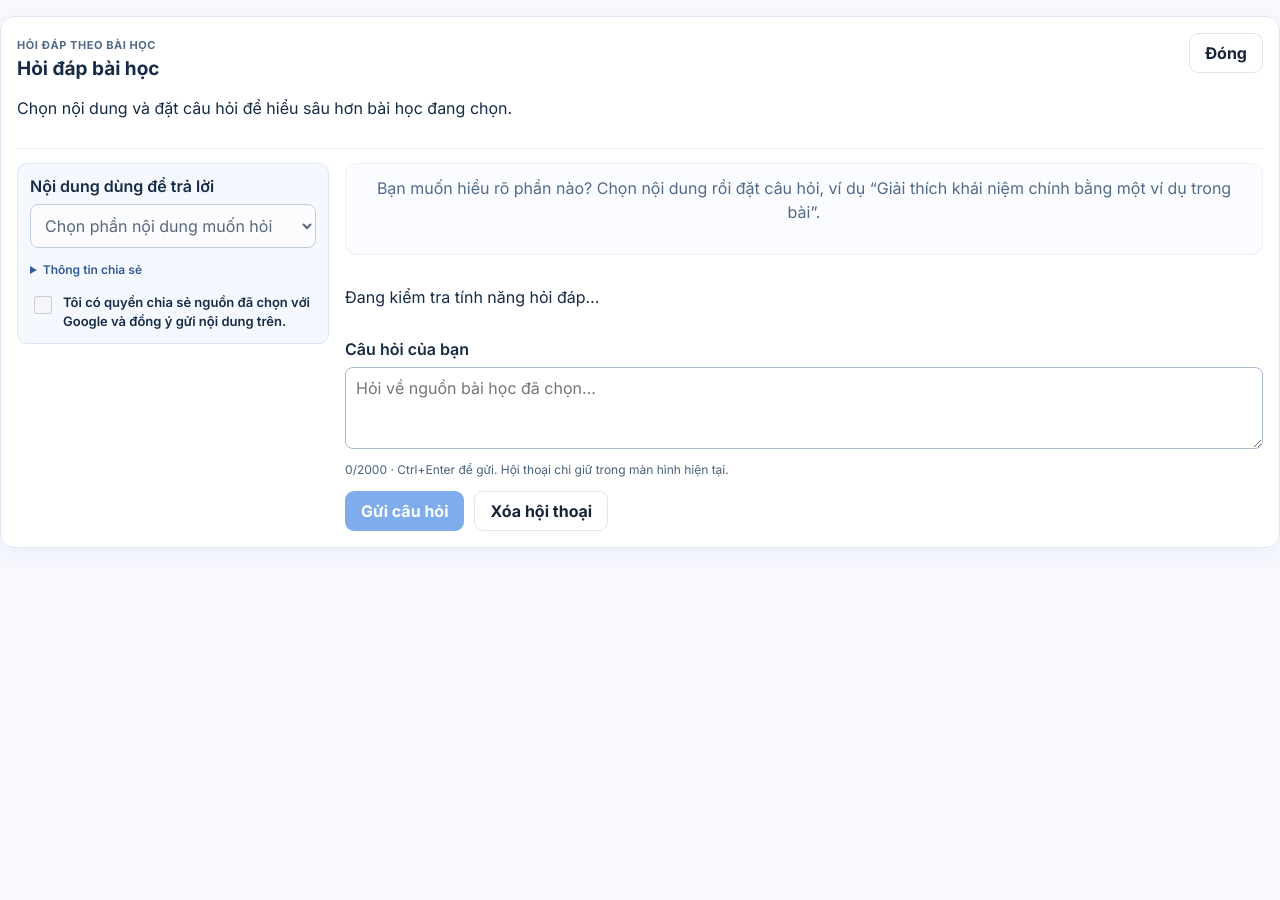
Scenario: Gemini lesson chat › requires deliberate source and consent, displays real contract reply and bounded follow-up
Later steps or results of the test are not shown.
Type "Hỏi về bài học" into the text box labelled "Câu hỏi của bạn" at [804, 408], box [345,367,1263,449]
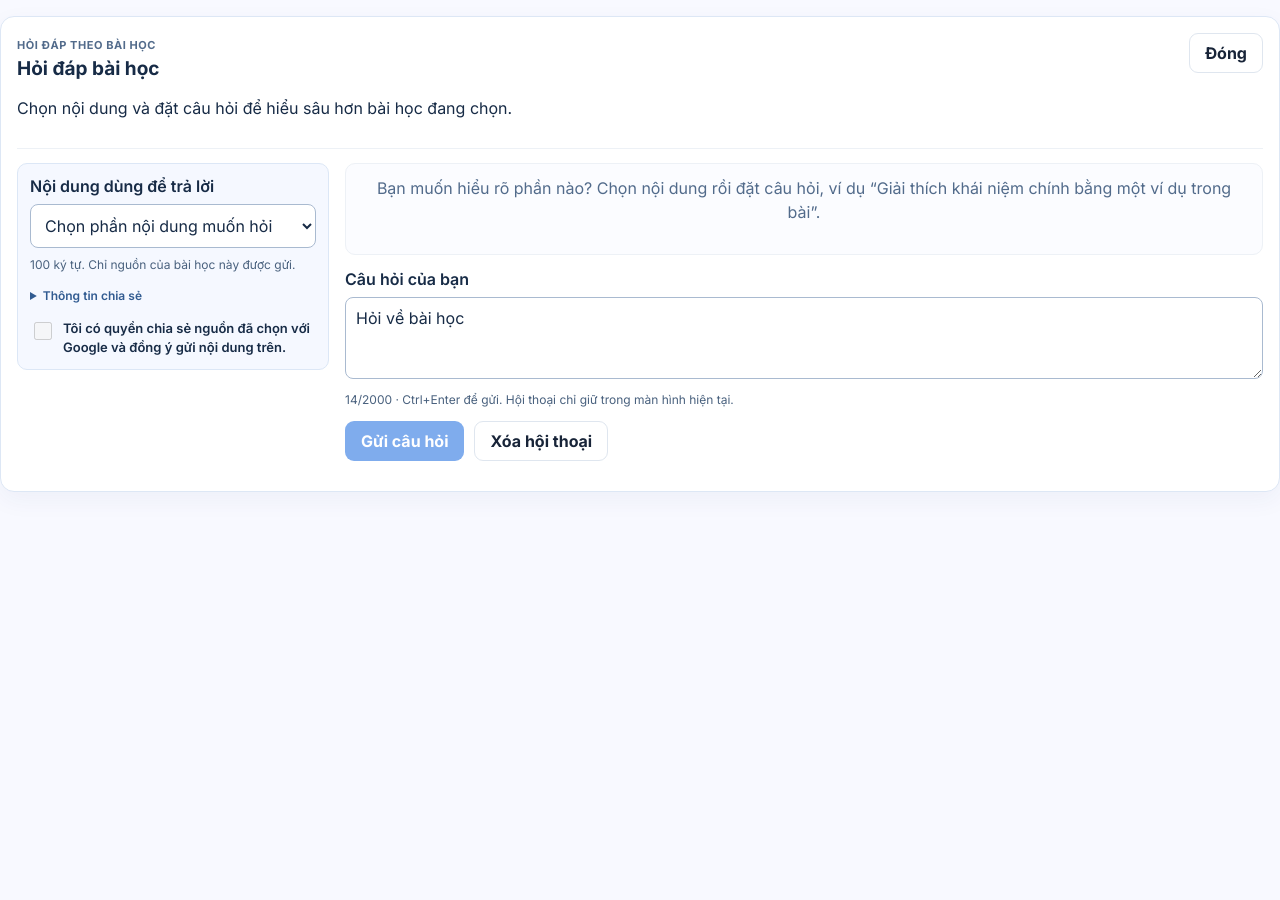
Expected: the button "Gửi câu hỏi" is disabled, [345,421,464,461]
Select "Nội dung bài học · Thuật toán" in the dropdown labelled "Nội dung dùng để trả lời" at [173, 226], box [30,204,316,248]
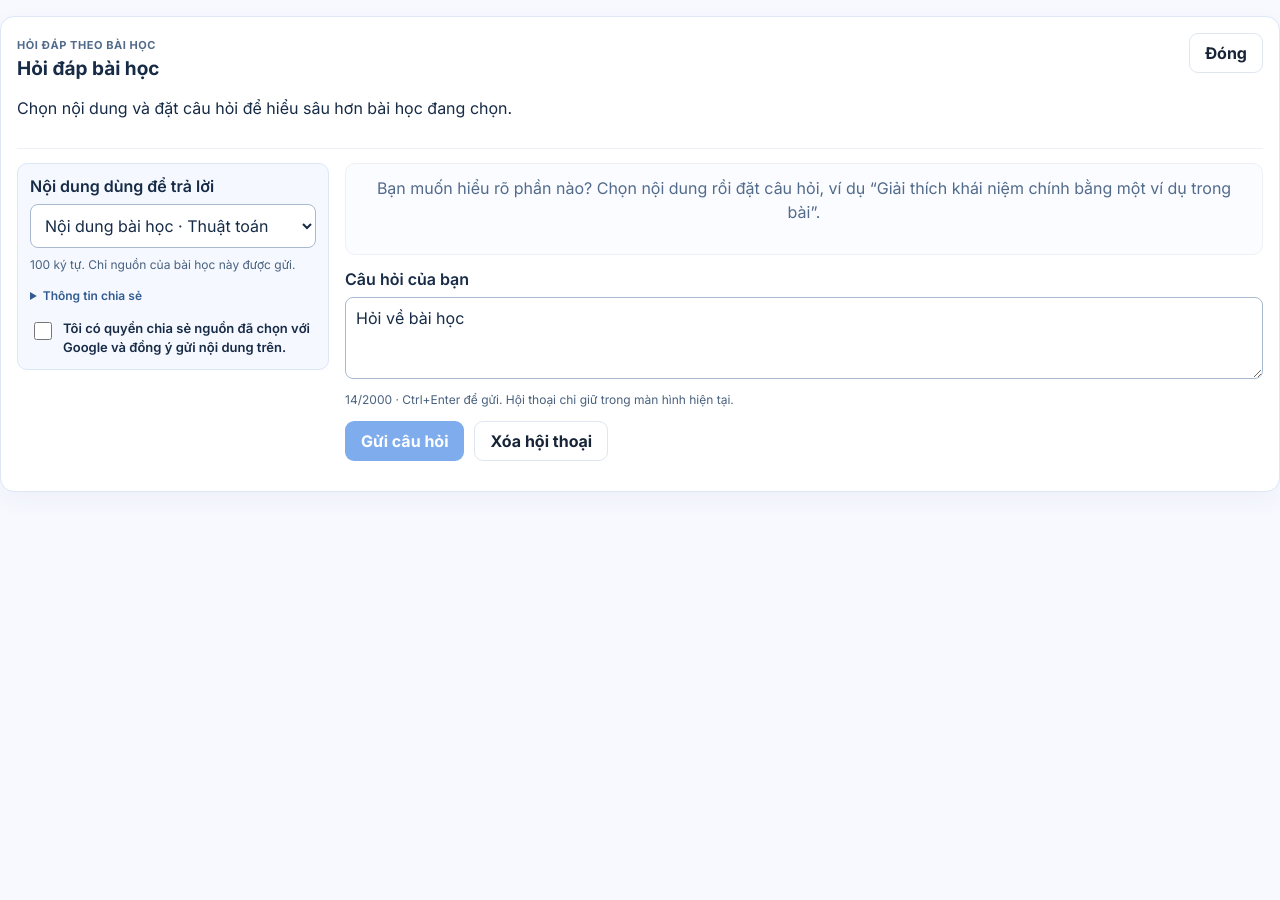
Click the checkbox at [43, 331], box [34,322,52,340]
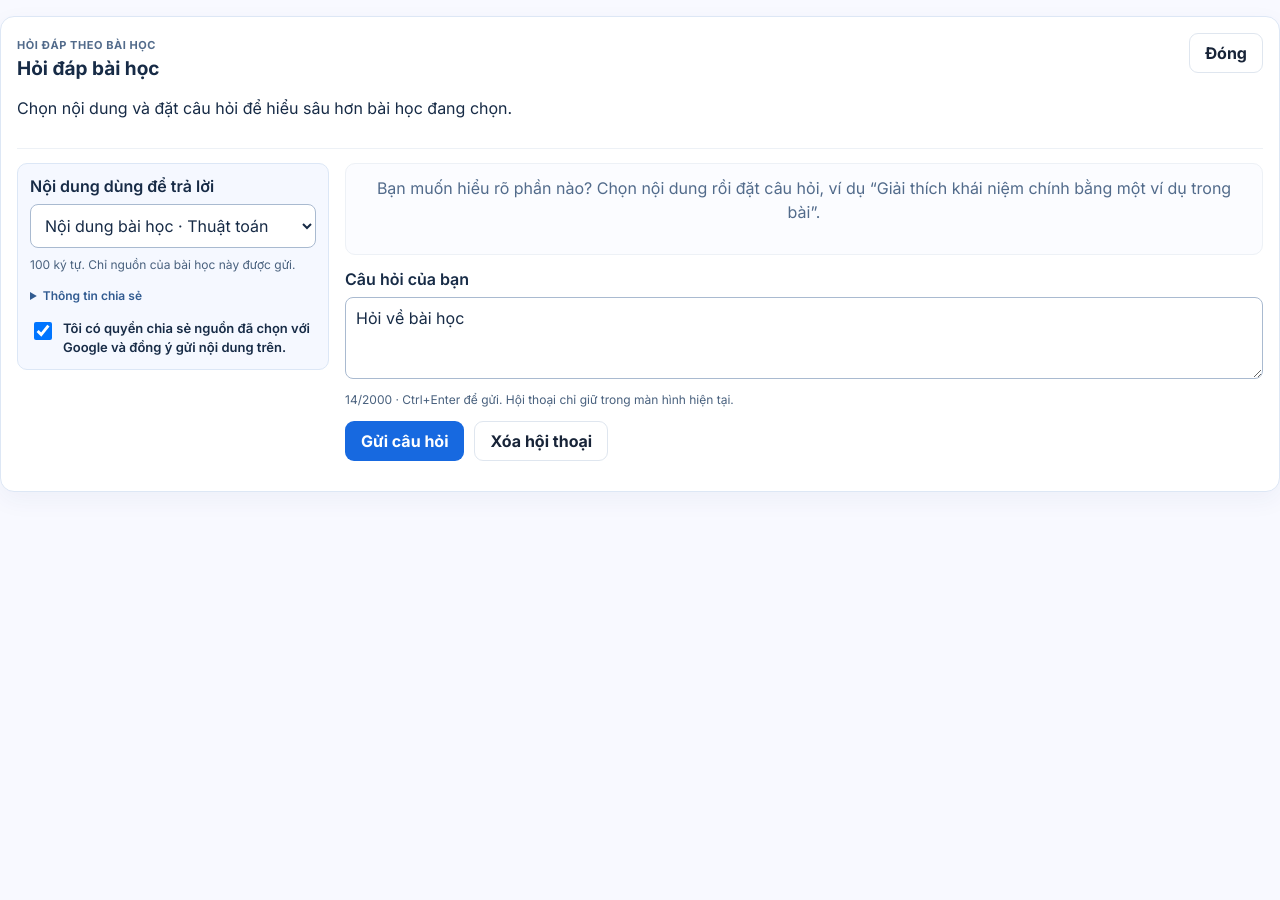
Replace the text in the text box labelled "Câu hỏi của bạn" with "Giải thích thuật toán?" at [804, 338], box [345,297,1263,379]
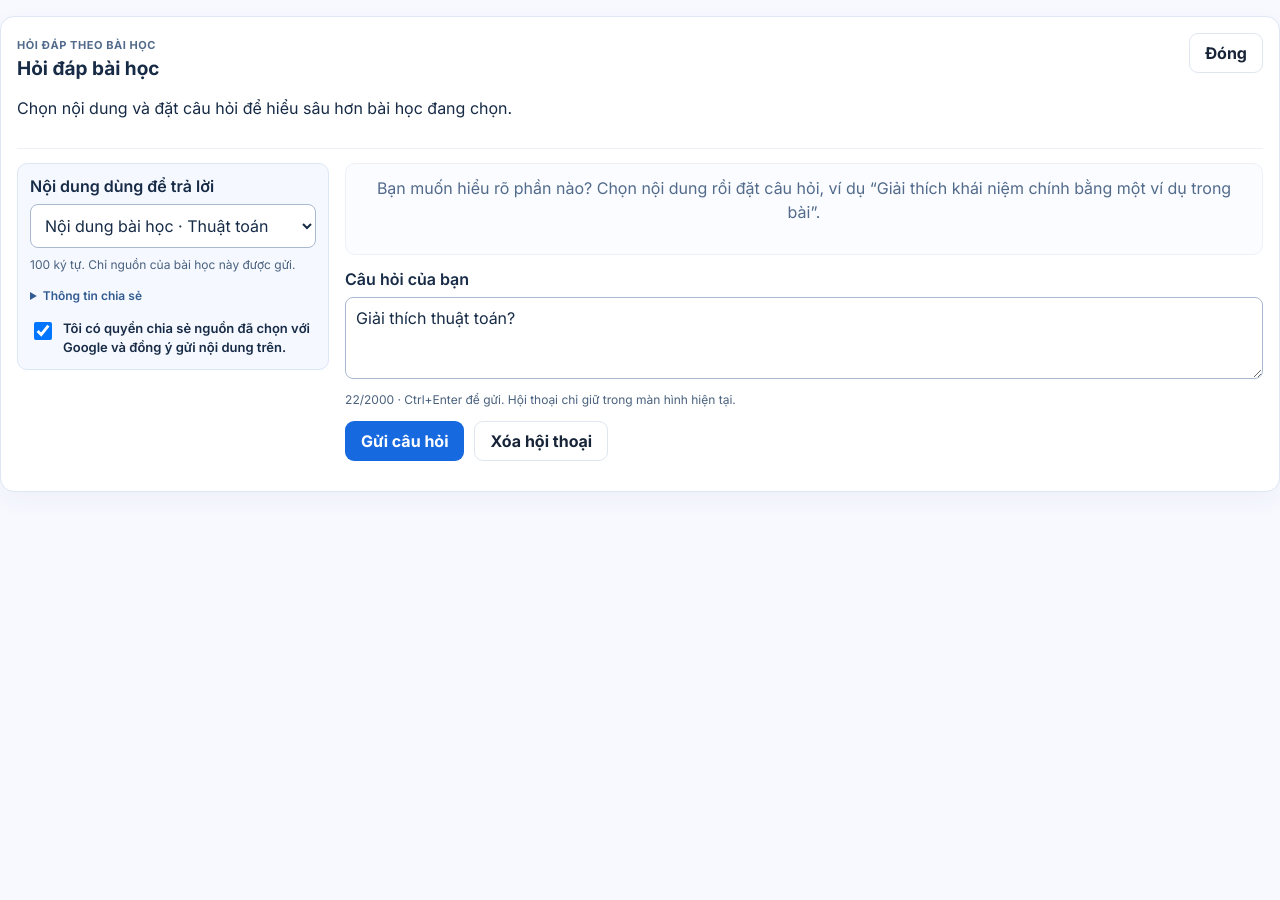
Click the button "Gửi câu hỏi" at [405, 441], box [345,421,464,461]
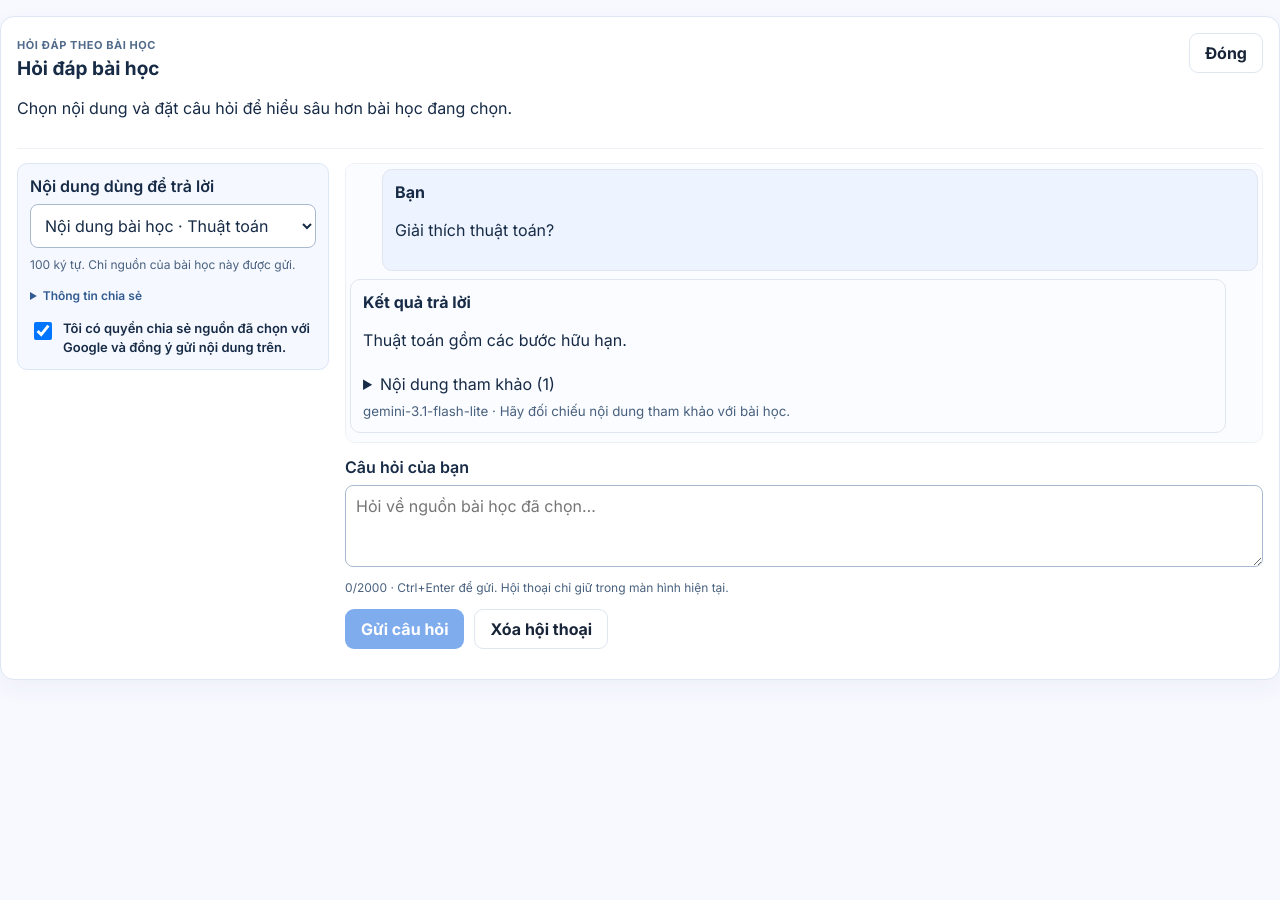
Expected: the text "Thuật toán gồm các bước hữu hạn." is shown, [363,330,627,350]
